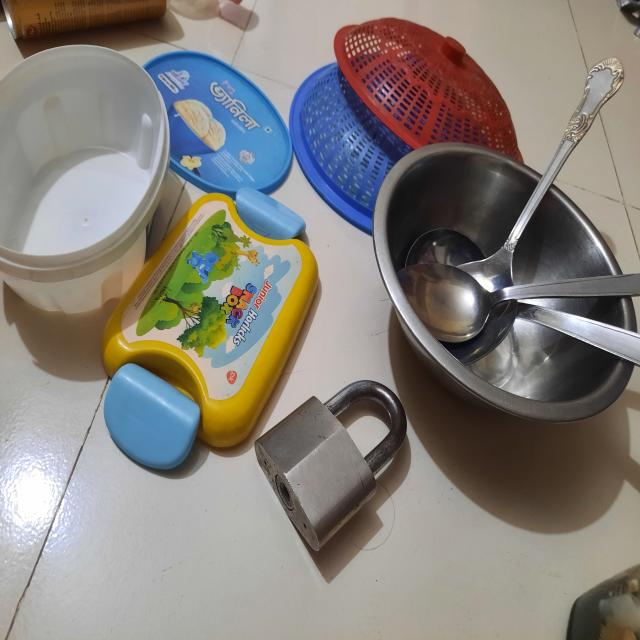Metal: (381, 115, 640, 430), (272, 395, 431, 542)
Plastics: (163, 52, 307, 480), (0, 46, 192, 302), (342, 8, 520, 156)
